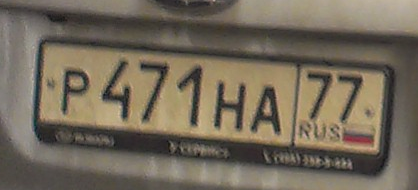character: (98, 59, 136, 125), (136, 58, 170, 130), (176, 59, 207, 132), (57, 61, 93, 121), (250, 81, 284, 138), (212, 80, 246, 136), (333, 70, 364, 126), (304, 66, 333, 124)
